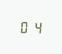four: (30, 19, 40, 34)
zero: (19, 19, 29, 33)
